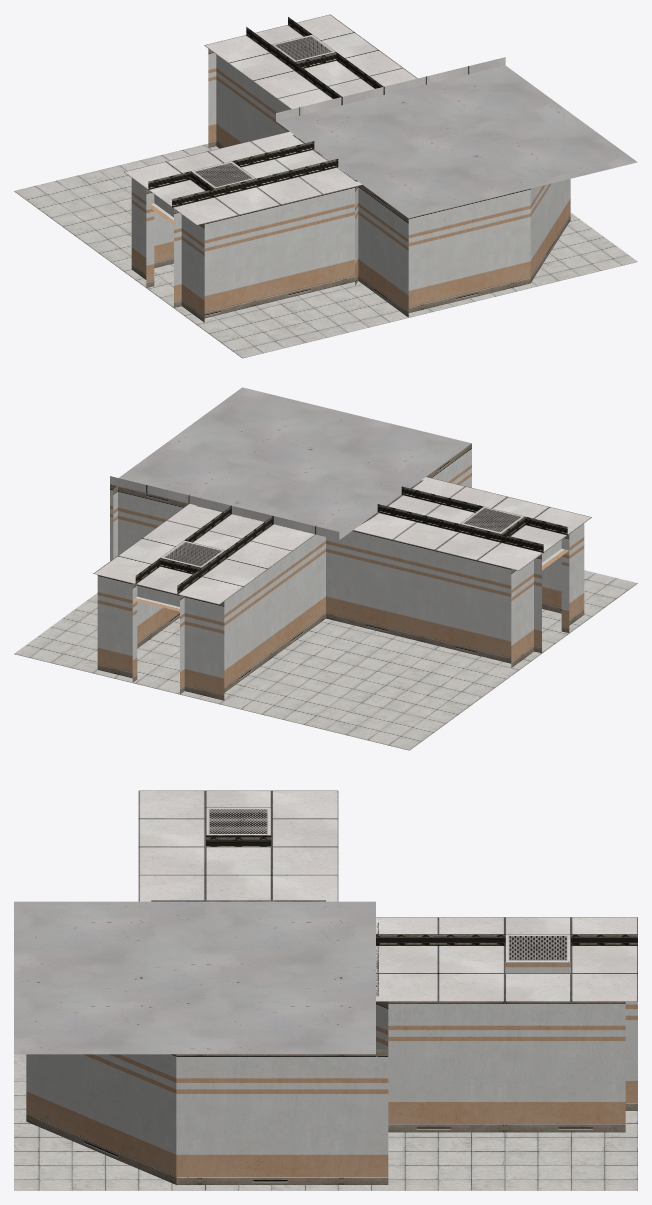
Rendered from classname=brush.004.fbx.
3 views of the same model, one above another, from view 1: azimuth 30°, elevation 25°; view 2: azimuth 150°, elevation 25°; view 3: azimuth 270°, elevation 25° (orthographic). The views are drawn at different scales.
Visible parts, largest first — view 1: classname_brush_004; view 2: classname_brush_004; view 3: classname_brush_004.
Part boxes in pixels (left/top/right/bottom): classname_brush_004: left=14, top=14, right=637, bottom=358; classname_brush_004: left=14, top=387, right=637, bottom=750; classname_brush_004: left=14, top=790, right=637, bottom=1190.
Bounding box in the file's own units: 1636 × 426 × 1636.
Materials: 7 (7 with a texture image).
